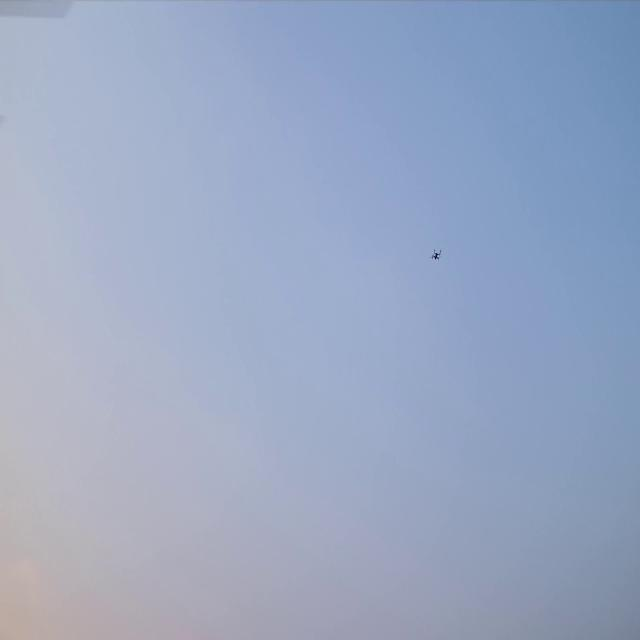UAV: (430, 248, 441, 260)
